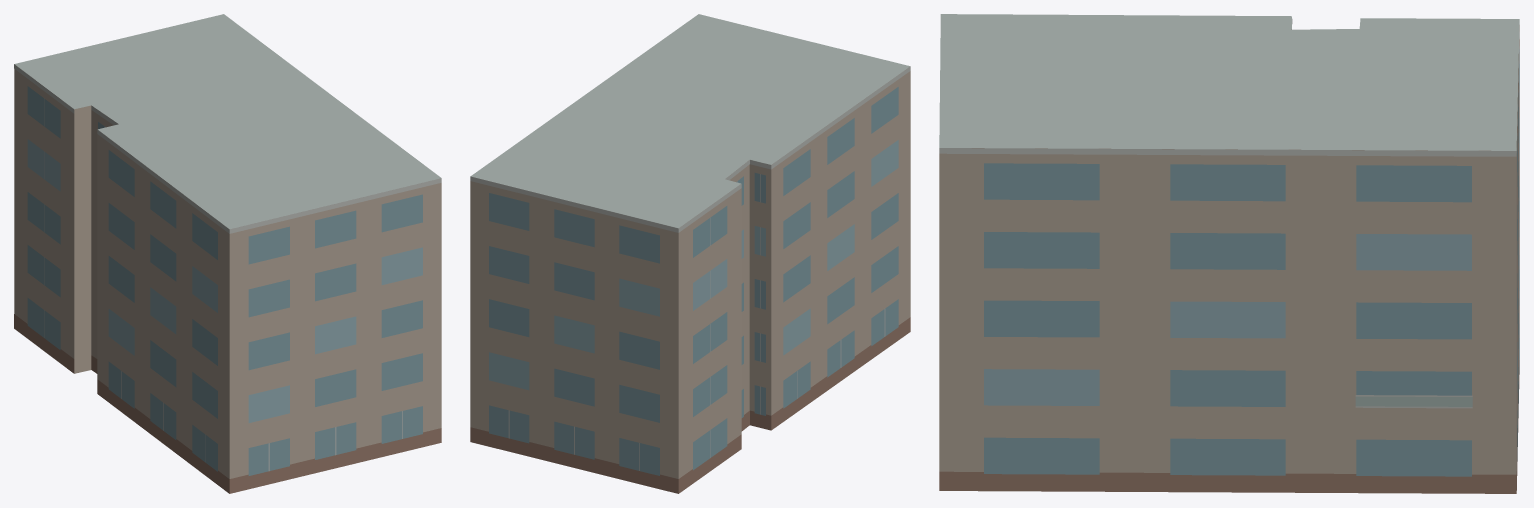
File: survey-upis-32761511.glb
The picture shows the model from 3 angles, left to right: view 1: azimuth 30°, elevation 25°; view 2: azimuth 150°, elevation 25°; view 3: azimuth 270°, elevation 25°; orthographic projection. The views are drawn at different scales.
Visible parts, largest first — view 1: survey-upis-32761511.tmp; view 2: survey-upis-32761511.tmp; view 3: survey-upis-32761511.tmp.
Part boxes in pixels (left/top/right/bottom): survey-upis-32761511.tmp: left=14, top=14, right=441, bottom=493; survey-upis-32761511.tmp: left=470, top=14, right=910, bottom=493; survey-upis-32761511.tmp: left=939, top=14, right=1519, bottom=493.
Bounding box in the file's own units: 12.18 × 14.2 × 21.79.
